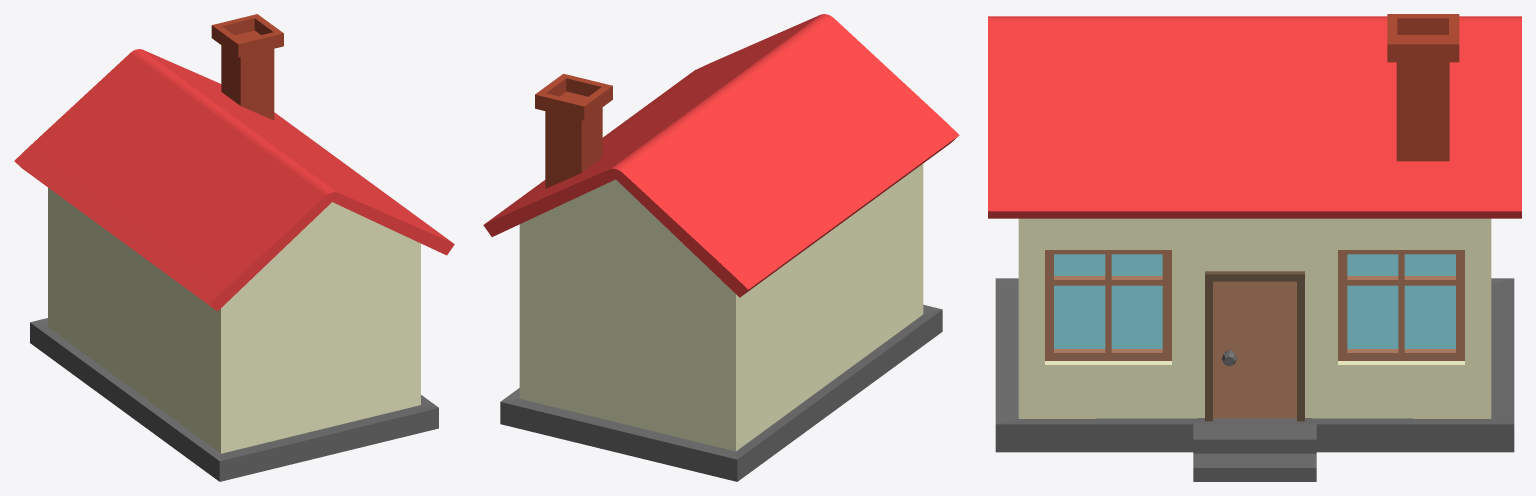
File: house_002.glb
The picture shows the model from 3 angles, left to right: view 1: azimuth 30°, elevation 25°; view 2: azimuth 150°, elevation 25°; view 3: azimuth 270°, elevation 25°; orthographic projection. The views are drawn at different scales.
Visible parts, largest first — view 1: Object_6, Object_7, Object_5, Object_2; view 2: Object_6, Object_7, Object_5, Object_2; view 3: Object_7, Object_6, Object_5, Object_9, Object_3, Object_8, Object_2, Object_4.
Part boxes in pixels (bbox=[...]): Object_6: bbox=[48, 187, 420, 453]; Object_7: bbox=[14, 49, 454, 311]; Object_5: bbox=[30, 318, 438, 481]; Object_2: bbox=[211, 14, 283, 120]; Object_6: bbox=[519, 164, 923, 451]; Object_7: bbox=[483, 14, 959, 297]; Object_5: bbox=[500, 304, 942, 481]; Object_2: bbox=[535, 73, 612, 188]; Object_7: bbox=[988, 16, 1521, 218]; Object_6: bbox=[1018, 218, 1491, 418]; Object_5: bbox=[995, 278, 1514, 481]; Object_9: bbox=[1054, 254, 1455, 348]; Object_3: bbox=[1213, 281, 1296, 418]; Object_8: bbox=[1045, 250, 1464, 360]; Object_2: bbox=[1387, 14, 1459, 161]; Object_4: bbox=[1205, 271, 1304, 421].
Size of the model in its own units: 5.53 by 5.6 by 6.77.
